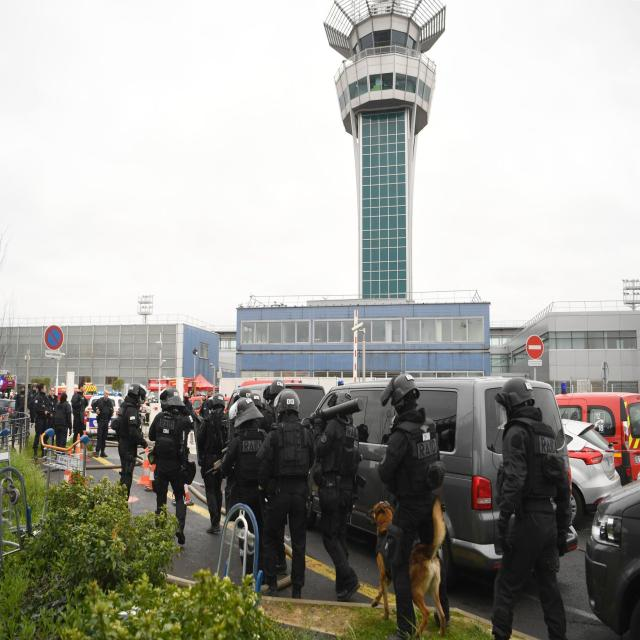body: (489, 372, 574, 640), (378, 372, 452, 638), (255, 388, 316, 601), (311, 390, 364, 604), (210, 396, 268, 587), (147, 386, 198, 546), (111, 382, 149, 513), (197, 392, 228, 534), (356, 419, 392, 473), (91, 389, 115, 458), (256, 378, 286, 433), (70, 381, 90, 462), (52, 391, 73, 456), (31, 382, 48, 461), (238, 384, 268, 412), (14, 383, 29, 437), (182, 392, 194, 446), (44, 386, 58, 429), (27, 382, 38, 424), (199, 390, 214, 419), (144, 394, 152, 426), (190, 387, 207, 401), (199, 394, 208, 418), (0, 391, 18, 401), (150, 394, 158, 404)
